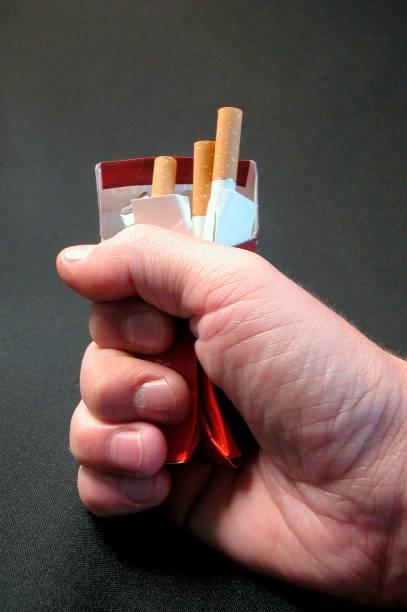cigarette: (91, 154, 261, 471), (209, 105, 244, 241), (192, 139, 216, 241), (150, 156, 179, 200)
